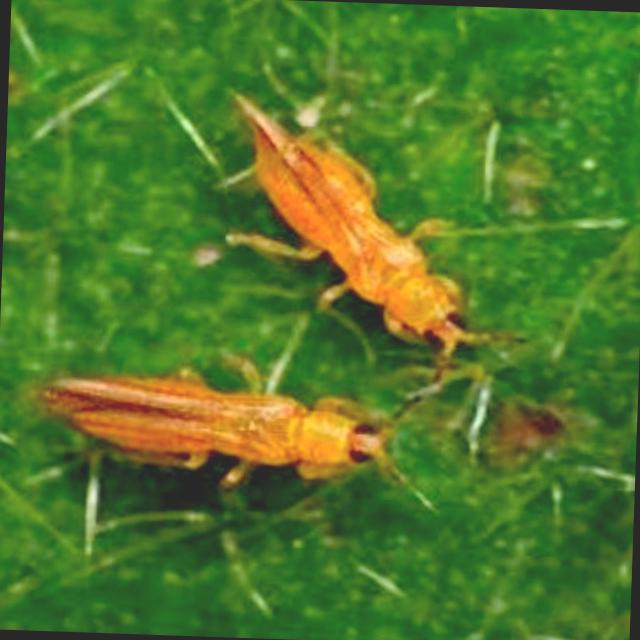melon thrips: (182, 61, 517, 388), (28, 304, 414, 536)
